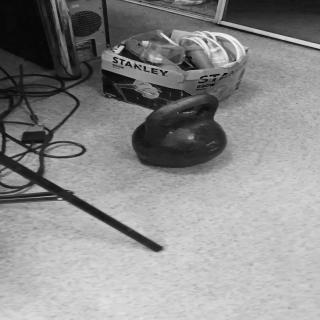kettlebell: (133, 94, 229, 168)
